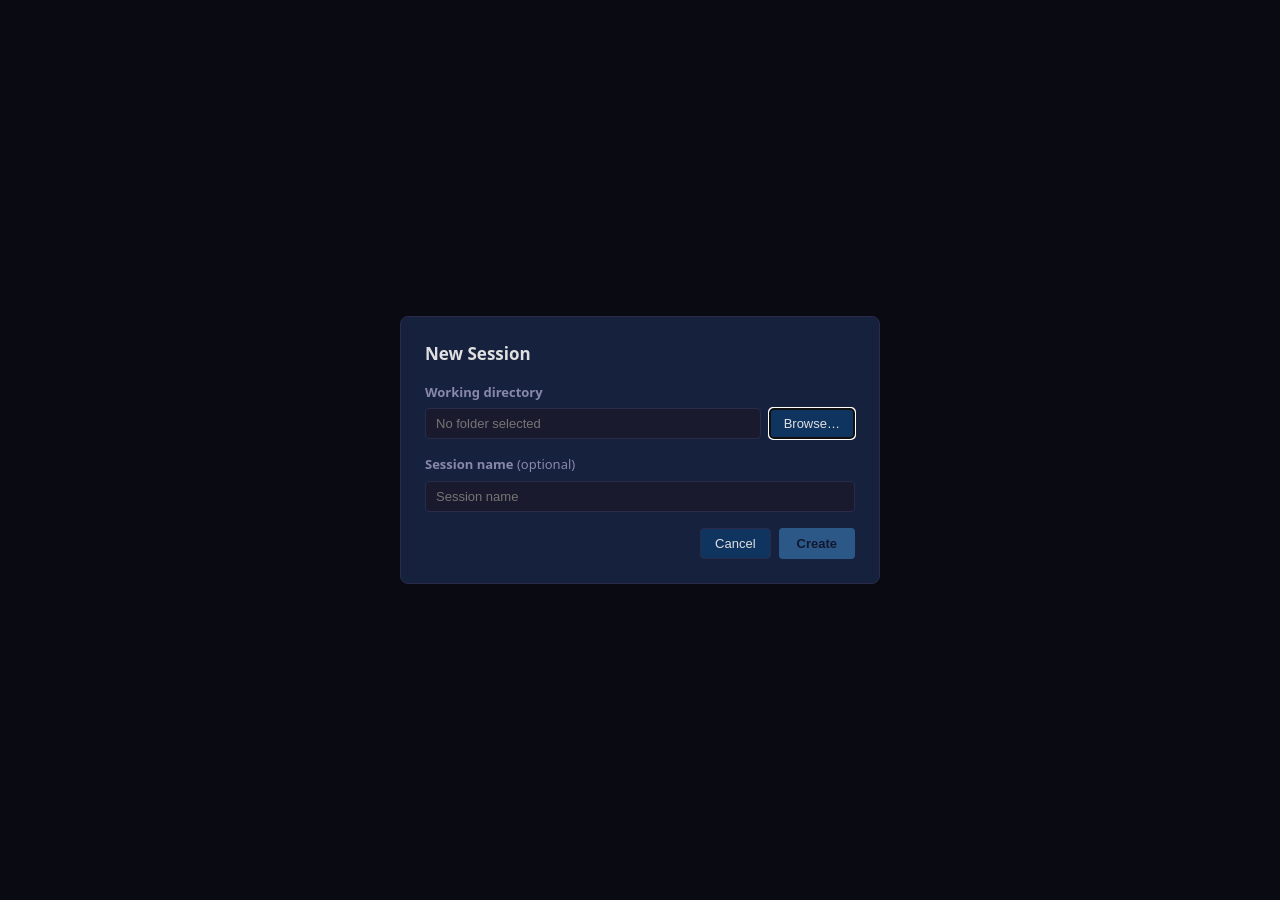
NewSessionDialog › shows 'Creating…' and disables buttons while create is in-flight
The width and height of the screenshot is (1280, 900).
Click the button "Browse…" at (812, 424), box [769,408,855,439]
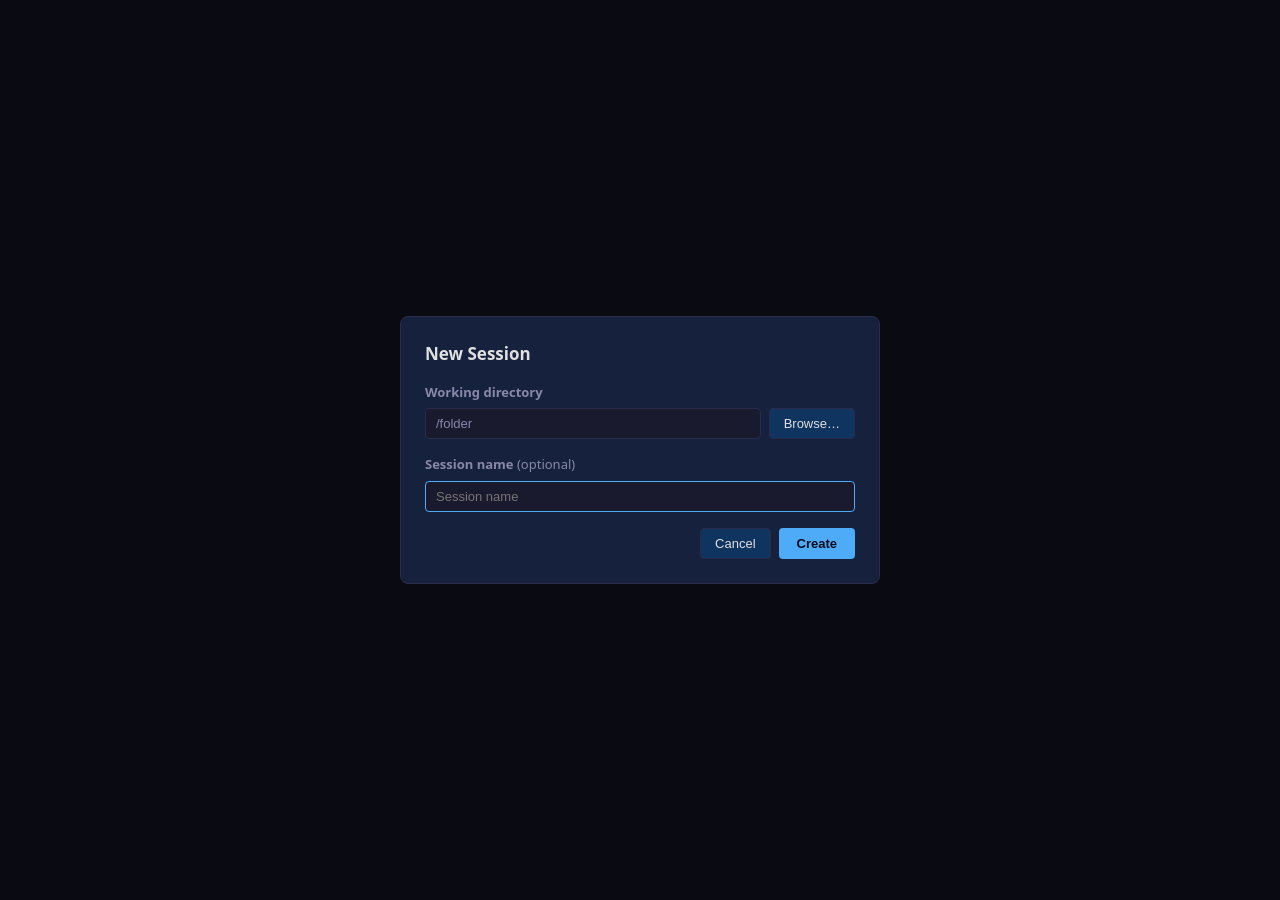
Click the button "Create" at (817, 543), box [778,528,855,559]
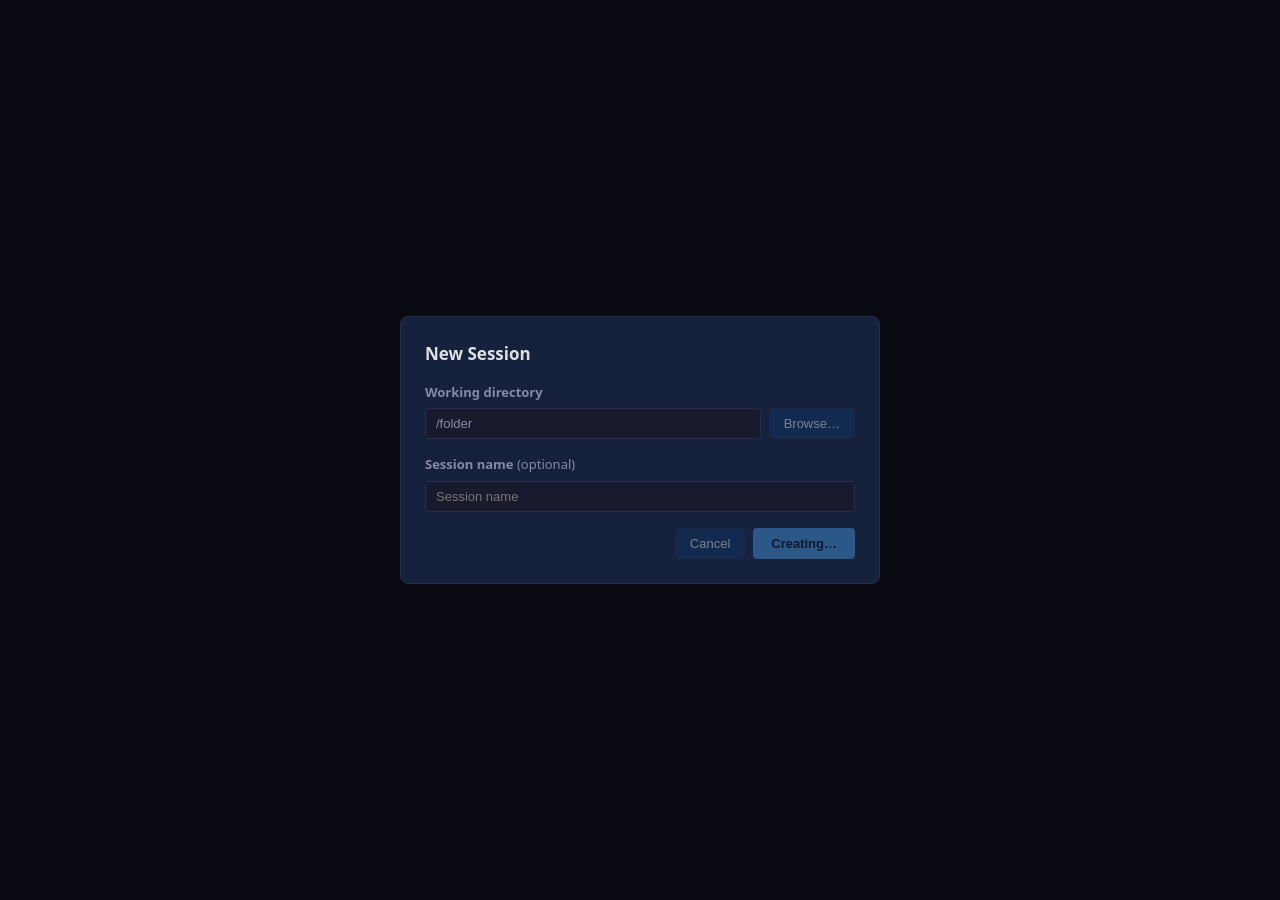
Expected: the button "Creating…" is disabled, [753,528,855,559]
Expected: the button "Cancel" is disabled, [675,528,745,559]
